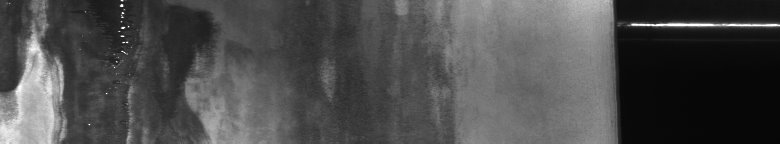kb: (8, 4, 202, 136)
